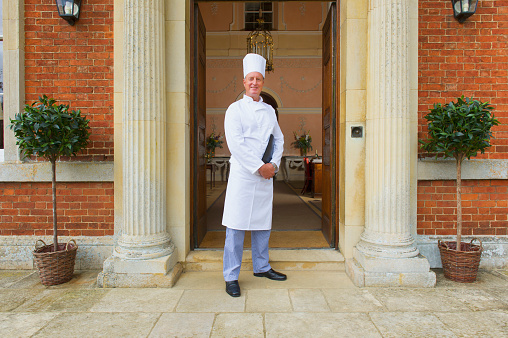em pe: (221, 58, 286, 296)
